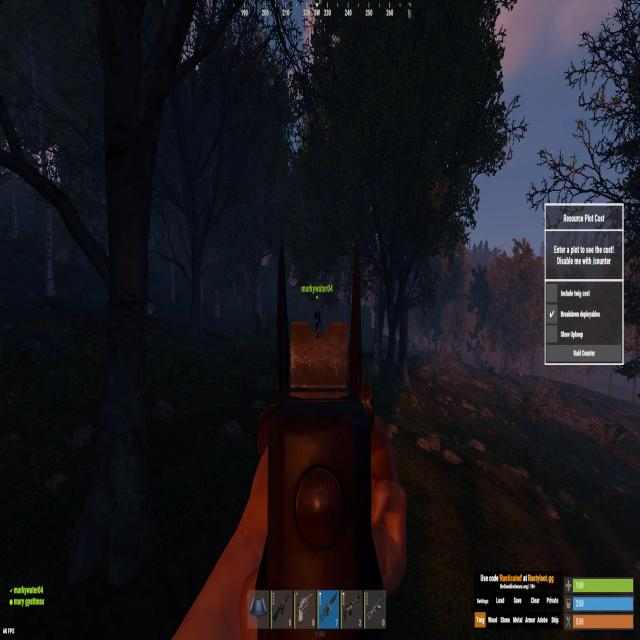Player: (313, 304, 323, 339)
